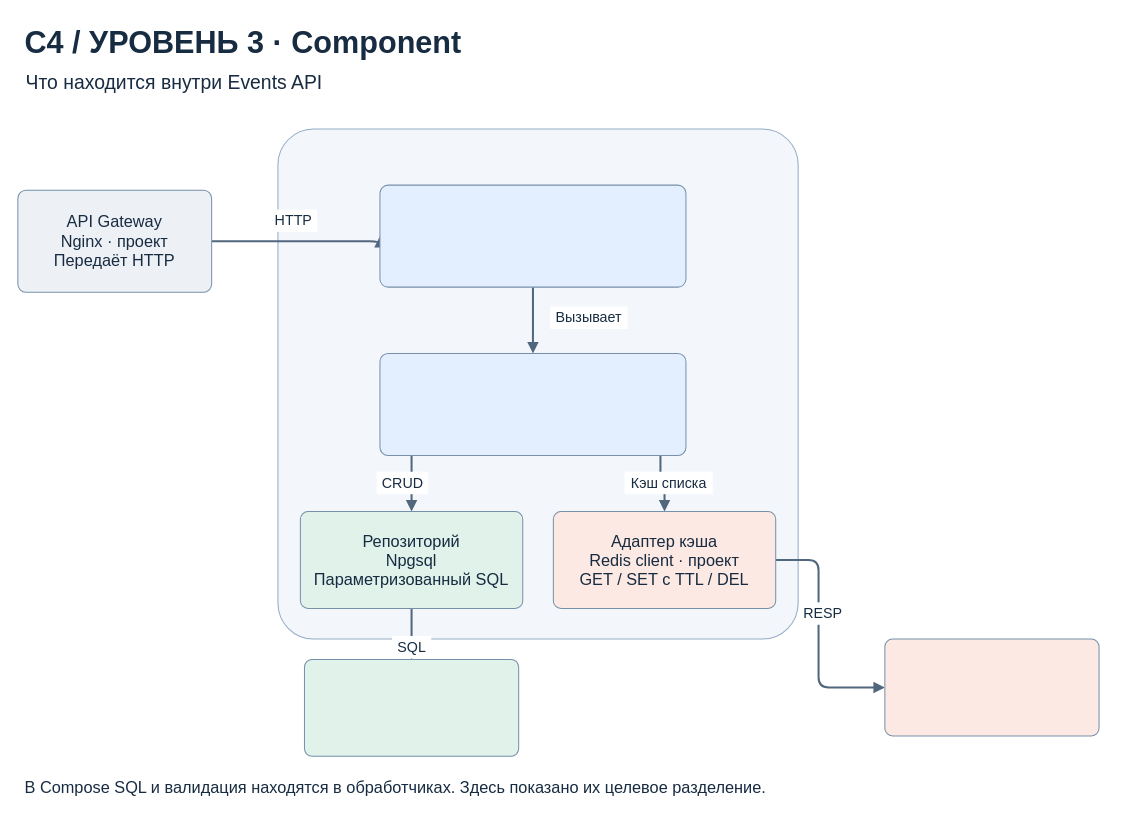
This 1132x822 diagram has some shape labels left out. The box of each missing label's shape, as (x1, y1, x2, y2) in pixels:
Events API · ASP.NET Core: (277, 128, 798, 639)
PostgreSQL 16 Вне Events API Источник данных: (303, 658, 519, 756)
Redis Вне Events API Кэш списка: (884, 638, 1099, 736)
Маршруты /events Minimal API Принимают HTTP и возвращают ответ: (379, 184, 686, 287)
Сервис мероприятий C# · проект Валидация и порядок операций: (379, 352, 686, 455)
